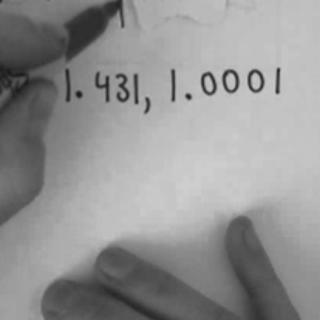.: (74, 85, 84, 102), (184, 91, 197, 104)
0: (220, 67, 241, 94), (246, 66, 266, 94), (200, 70, 217, 97)
1: (60, 65, 71, 106), (131, 72, 142, 105), (168, 67, 177, 101), (275, 63, 282, 91)
3: (113, 71, 133, 106)
4: (94, 69, 113, 103)
